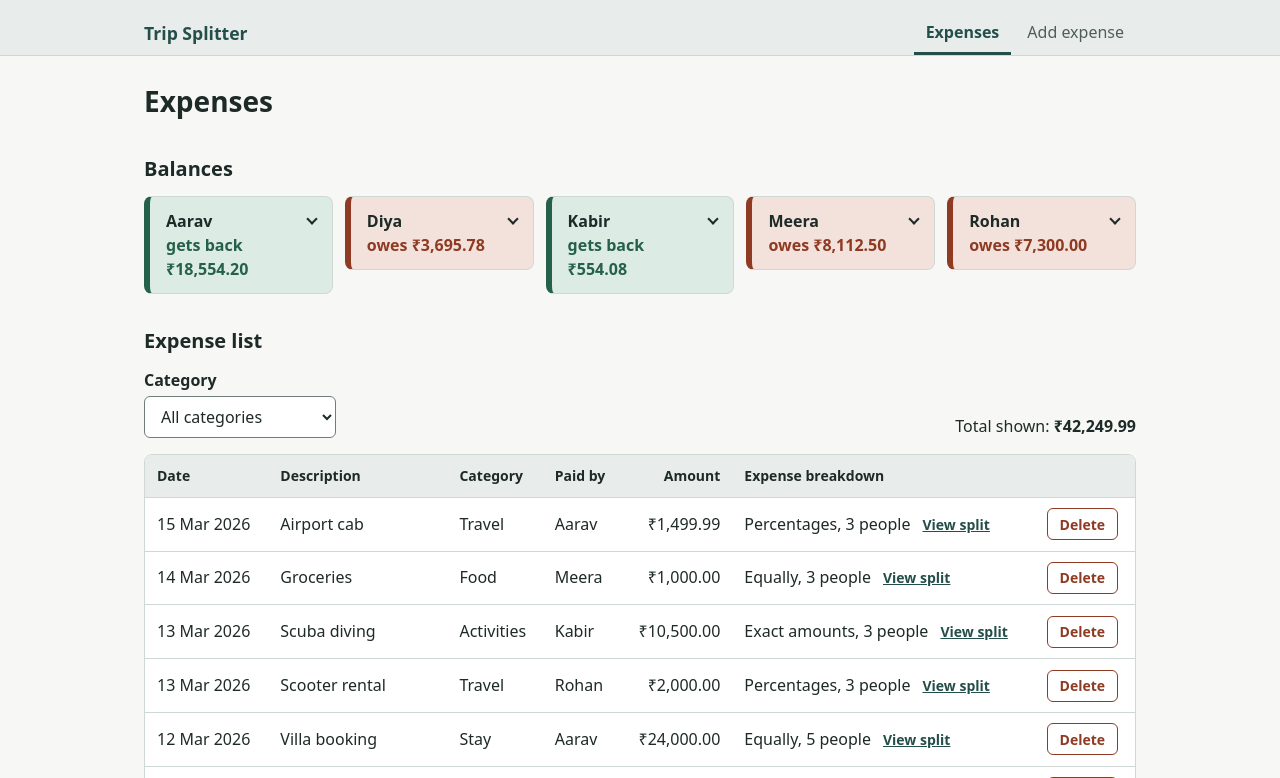
Balance cards › explain that the payments settle the overall balances, not single expenses
What coordinates should you click on to do the following:
click the button "Diya owes ₹3,695.78"
I would click on:
 (442, 233)
Its box is [351, 197, 533, 269].
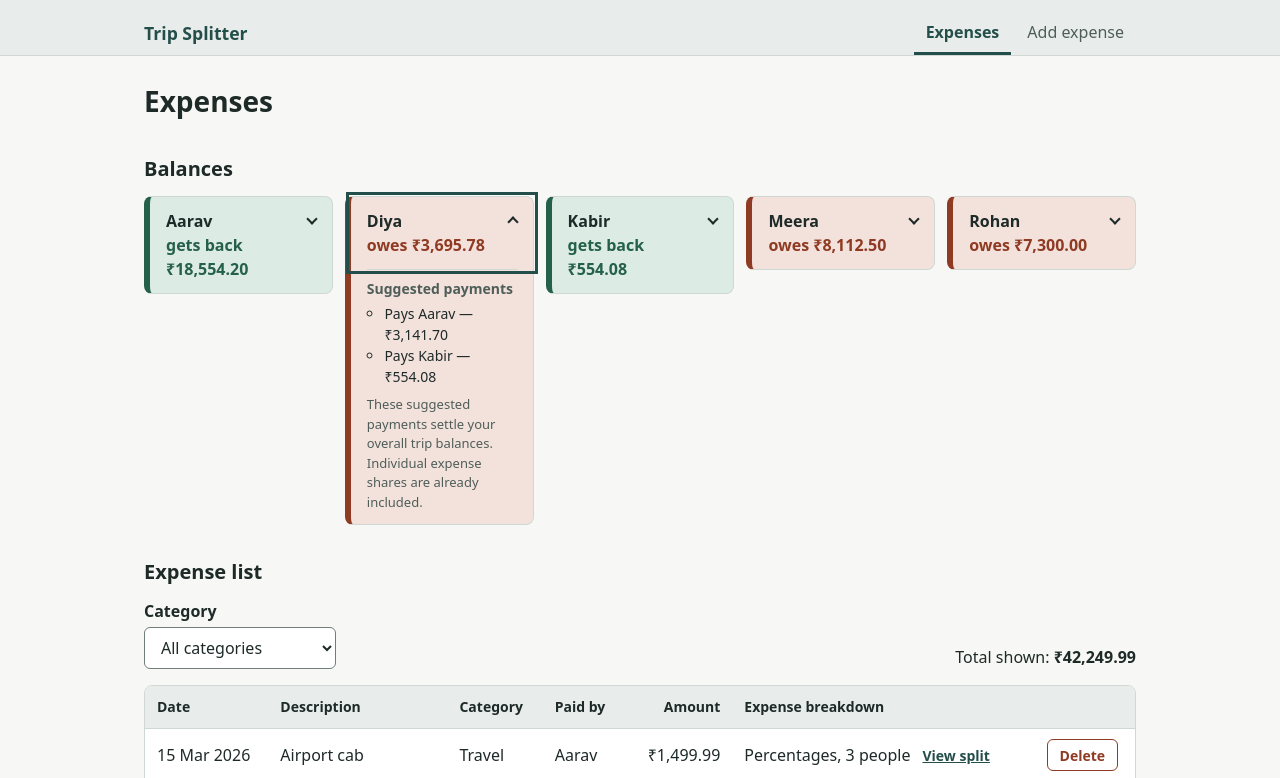
Now the text "These suggested payments settle your overall trip balances. Individual expense shares are already included." is shown, box [367, 395, 496, 510]
